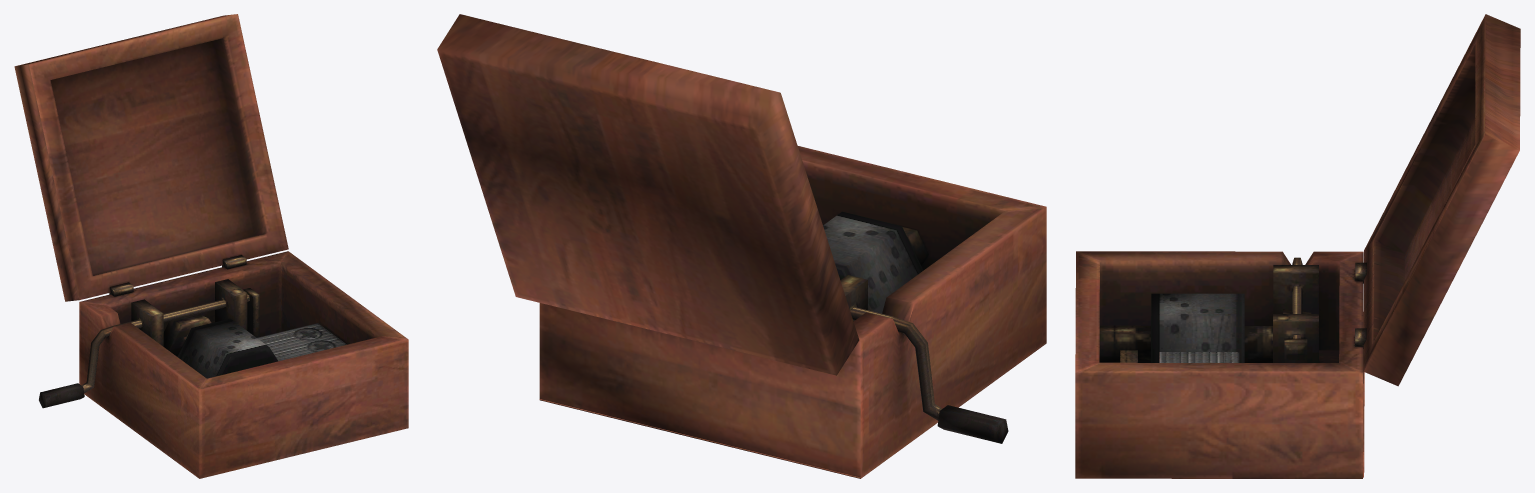
File: musicbox.glb
3 views of the same model, side by side, from view 1: azimuth 30°, elevation 25°; view 2: azimuth 150°, elevation 25°; view 3: azimuth 270°, elevation 25° (orthographic). The views are drawn at different scales.
Parts seen in each view (by area): view 1: Object_2; view 2: Object_2; view 3: Object_2.
Part boxes in pixels (x1,y1,x2,y2): Object_2: (14, 14, 408, 478); Object_2: (437, 14, 1046, 478); Object_2: (1075, 14, 1520, 478).
Bounding box in the file's own units: 0.3149 × 0.3166 × 0.3715.
Materials: 1 (1 with a texture image).
